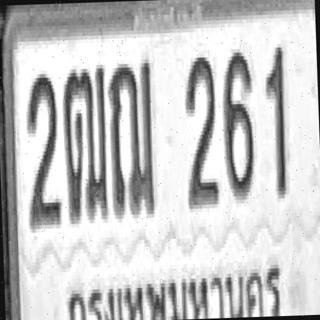A12: (107, 56, 156, 215)
A18: (61, 62, 109, 222)
N01: (264, 45, 288, 197)
N02: (24, 70, 61, 225), (183, 53, 219, 205)
N06: (221, 48, 255, 196)
